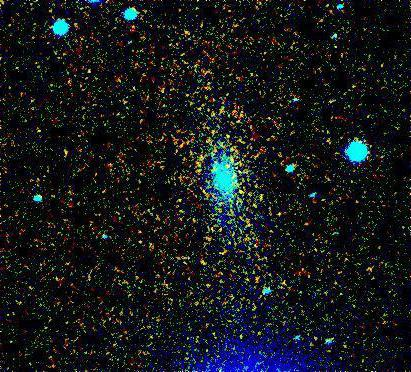star: (217, 156, 247, 186)
